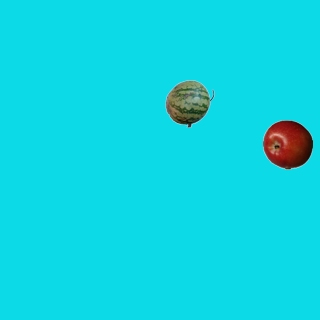Apple Braeburn: (262, 119, 312, 169)
Watermelon: (164, 78, 214, 128)
